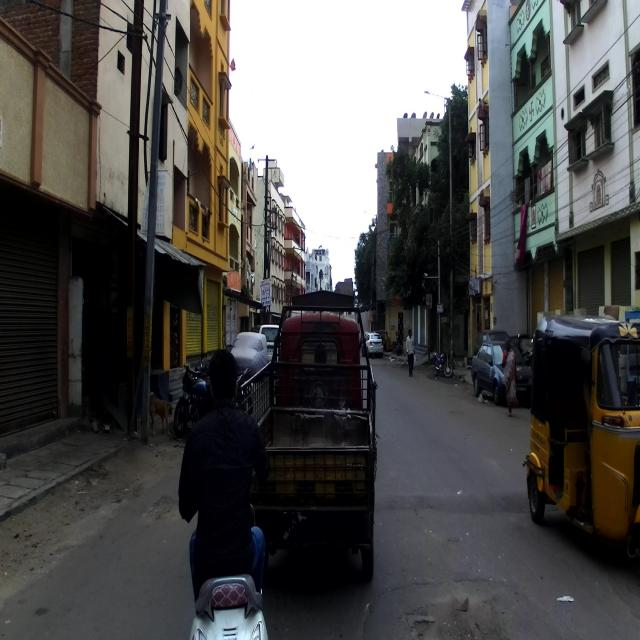autorickshaw: (241, 289, 379, 583), (521, 315, 640, 564)
